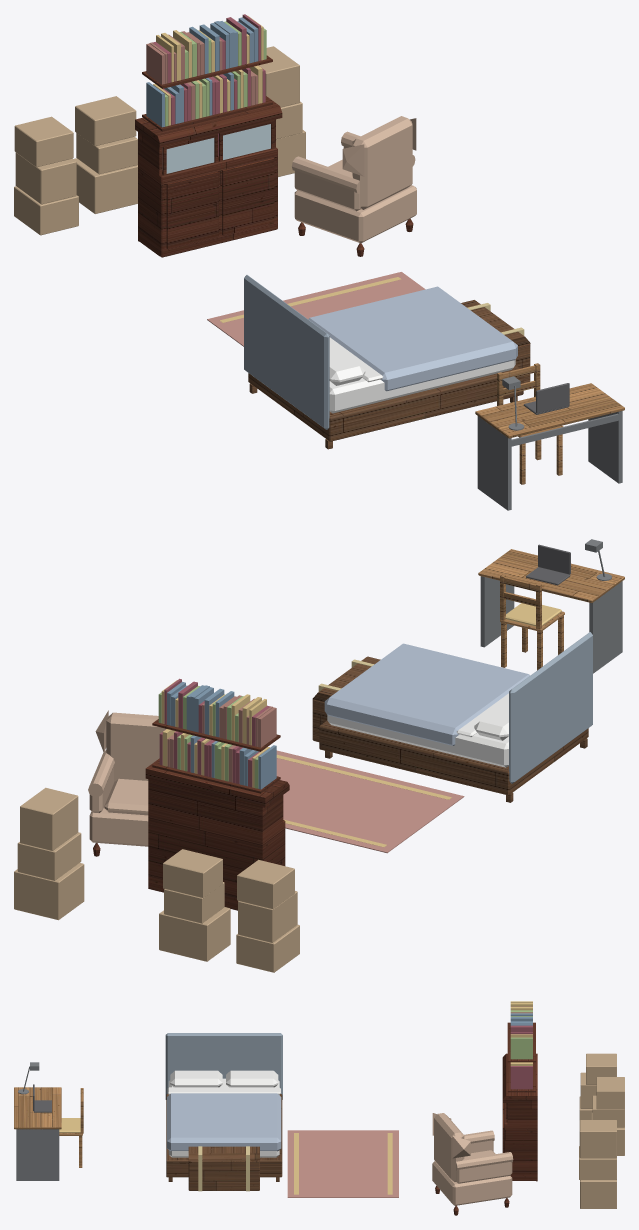
File: furn_a_r.glb
3 views of the same model, one above another, from view 1: azimuth 30°, elevation 25°; view 2: azimuth 150°, elevation 25°; view 3: azimuth 270°, elevation 25° (orthographic). The views are drawn at different scales.
Parts seen in each view (by area): view 1: furn_a_r_mahog, furn_a_r_basket, furn_a_r_bed_b, furn_a_r_fabric_t, furn_a_r_fabric2, furn_a_r_dkwood, furn_a_r_steel_d, furn_a_r_wood, furn_a_r_bed_w, furn_a_r_book2, furn_a_r_rug, furn_a_r_cushion (+5 smaller); view 2: furn_a_r_basket, furn_a_r_mahog, furn_a_r_bed_b, furn_a_r_rug, furn_a_r_fabric2, furn_a_r_fabric_t, furn_a_r_dkwood, furn_a_r_wood, furn_a_r_steel_d, furn_a_r_cushion, furn_a_r_bed_w, furn_a_r_book2 (+4 smaller); view 3: furn_a_r_rug, furn_a_r_basket, furn_a_r_bed_b, furn_a_r_fabric_t, furn_a_r_fabric2, furn_a_r_dkwood, furn_a_r_mahog, furn_a_r_bed_w, furn_a_r_steel_d, furn_a_r_wood, furn_a_r_cushion, furn_a_r_velvet (+2 smaller).
Part boxes in pixels (x1,y1,x2,y2): furn_a_r_mahog: [135, 55, 413, 257]; furn_a_r_basket: [14, 46, 305, 235]; furn_a_r_bed_b: [308, 286, 517, 391]; furn_a_r_fabric_t: [291, 116, 416, 243]; furn_a_r_fabric2: [244, 275, 329, 429]; furn_a_r_dkwood: [248, 300, 530, 449]; furn_a_r_steel_d: [477, 376, 622, 510]; furn_a_r_wood: [475, 363, 624, 484]; furn_a_r_bed_w: [329, 337, 515, 413]; furn_a_r_book2: [146, 17, 258, 127]; furn_a_r_rug: [207, 272, 425, 346]; furn_a_r_cushion: [153, 15, 401, 322]; furn_a_r_basket: [14, 787, 299, 972]; furn_a_r_mahog: [93, 719, 289, 910]; furn_a_r_bed_b: [324, 643, 529, 745]; furn_a_r_rug: [276, 750, 464, 853]; furn_a_r_fabric2: [509, 632, 592, 783]; furn_a_r_fabric_t: [88, 710, 165, 846]; furn_a_r_dkwood: [312, 656, 588, 802]; furn_a_r_wood: [478, 549, 624, 670]; furn_a_r_steel_d: [480, 539, 622, 673]; furn_a_r_cushion: [161, 603, 561, 847]; furn_a_r_bed_w: [327, 693, 508, 767]; furn_a_r_book2: [167, 681, 276, 789]; furn_a_r_rug: [287, 1130, 398, 1197]; furn_a_r_basket: [579, 1053, 624, 1208]; furn_a_r_bed_b: [167, 1093, 281, 1151]; furn_a_r_fabric_t: [432, 1113, 513, 1205]; furn_a_r_fabric2: [165, 1033, 282, 1099]; furn_a_r_dkwood: [166, 1094, 282, 1190]; furn_a_r_mahog: [435, 1022, 537, 1215]; furn_a_r_bed_w: [167, 1070, 280, 1157]; furn_a_r_steel_d: [16, 1062, 59, 1180]; furn_a_r_wood: [14, 1087, 83, 1167]; furn_a_r_cushion: [59, 1001, 532, 1194]; furn_a_r_velvet: [510, 1025, 532, 1089].
Bounding box in the file's own units: 3.07 × 2.01 × 7.7.
18 materials, 3 textured.
